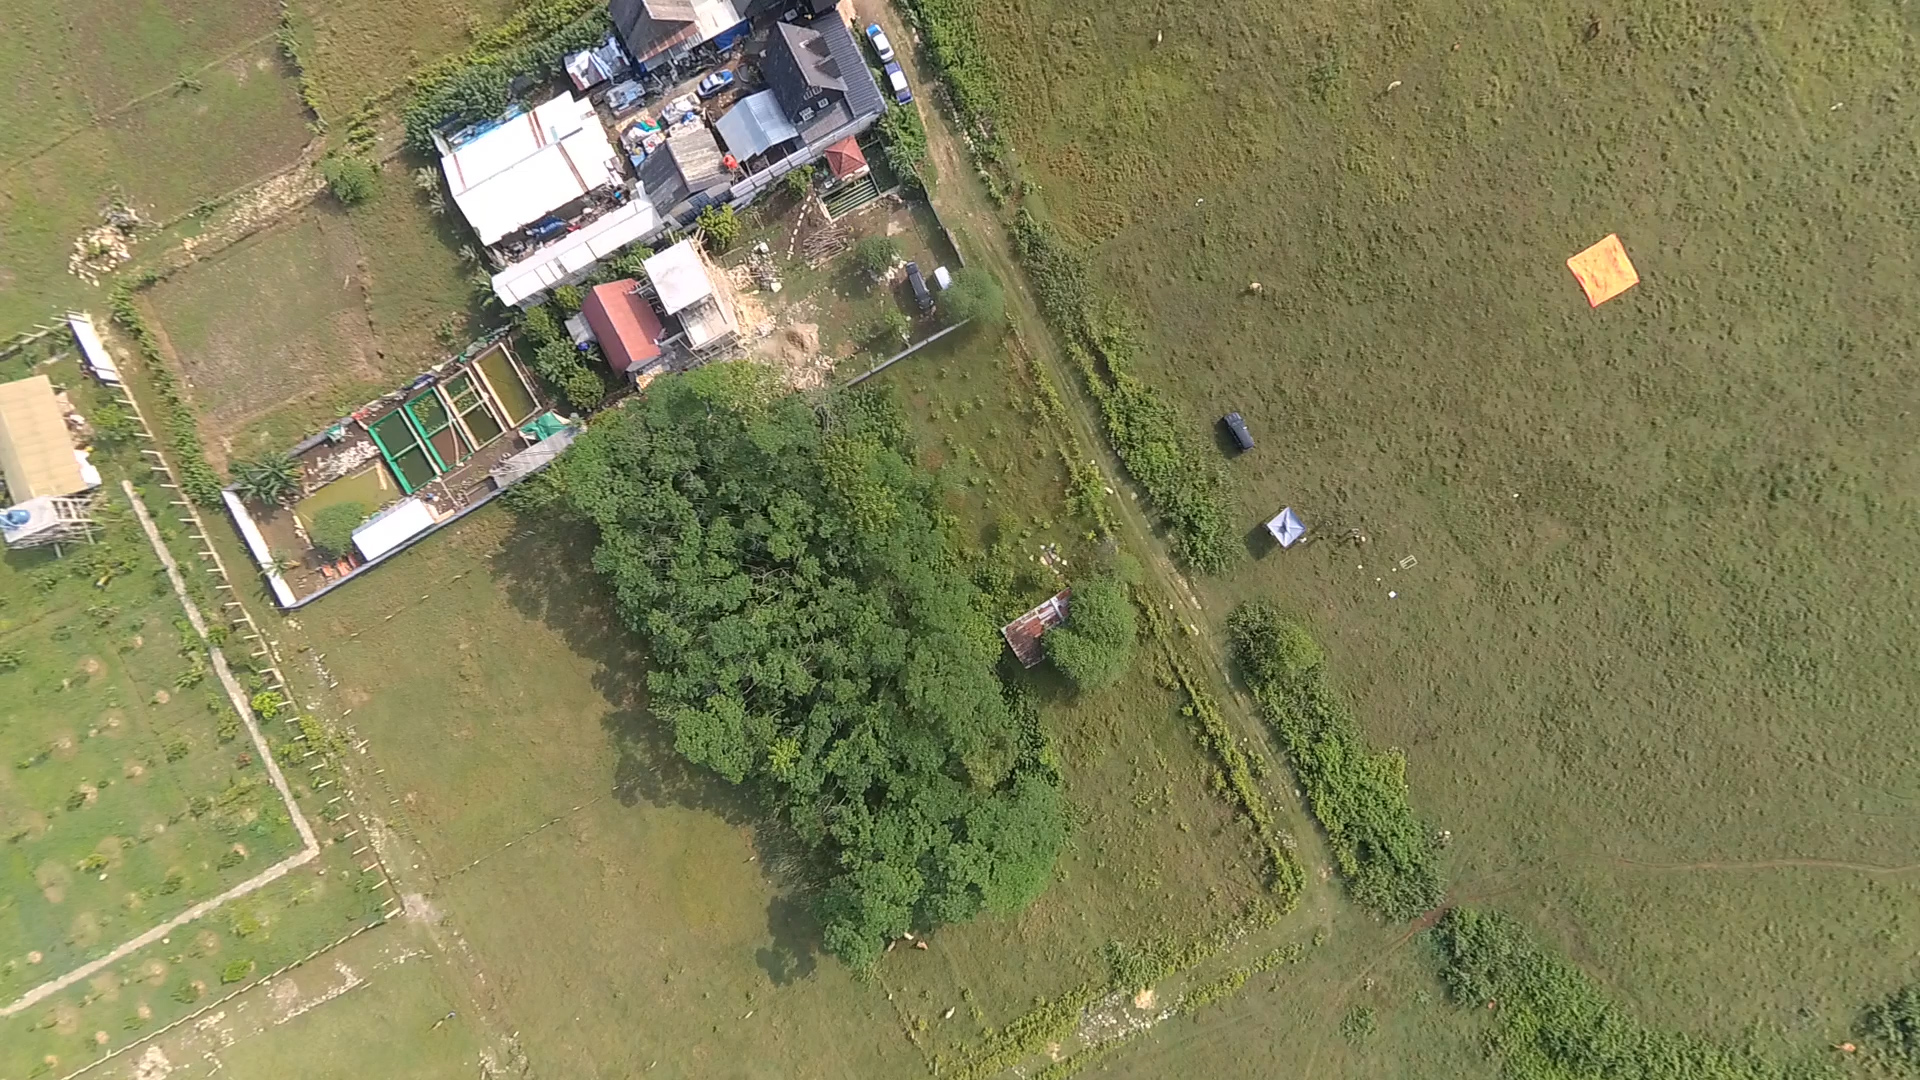Orange Dropzone: (1563, 229, 1643, 310)
